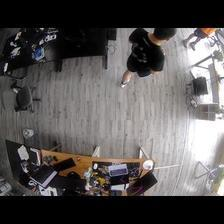normal: (119, 28, 176, 88)
